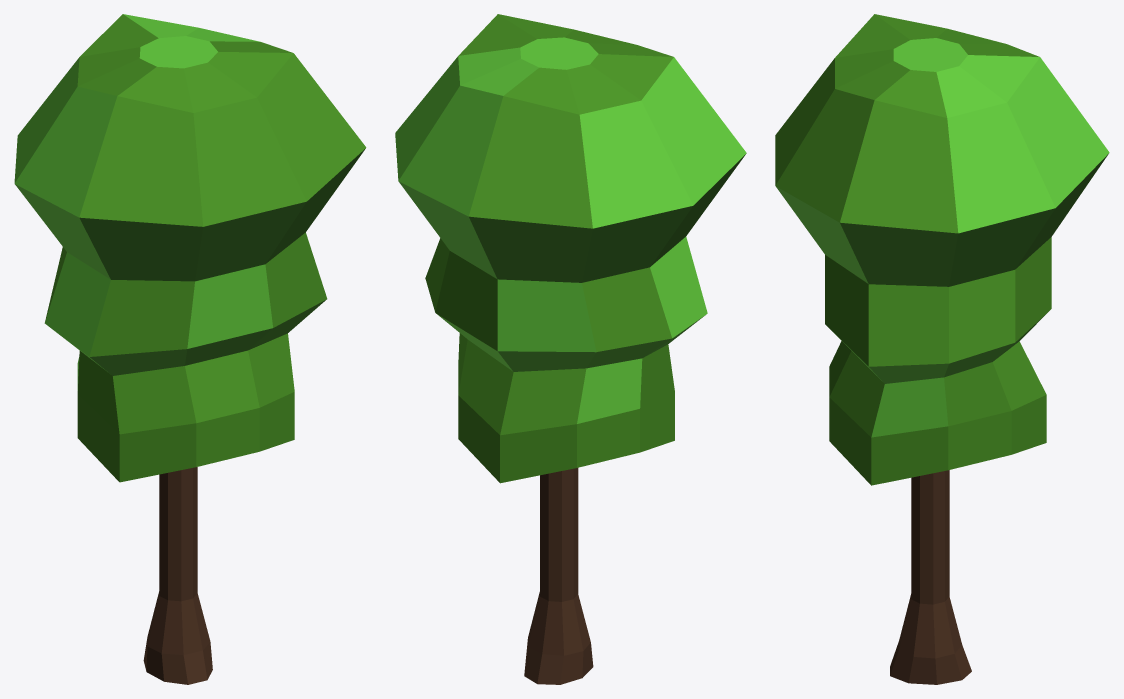
Rendered from Tree 03.fbx.
The picture shows the model from 3 angles, left to right: view 1: azimuth 30°, elevation 25°; view 2: azimuth 150°, elevation 25°; view 3: azimuth 270°, elevation 25°; orthographic projection.
Visible parts, largest first — view 1: Circle.002; view 2: Circle.002; view 3: Circle.002.
Boxes of the visible parts, x1,y1,x2,y2 form: Circle.002: (14, 14, 366, 684); Circle.002: (395, 14, 746, 684); Circle.002: (775, 14, 1109, 684).
Size of the model in its own units: 779 by 1536 by 755.
